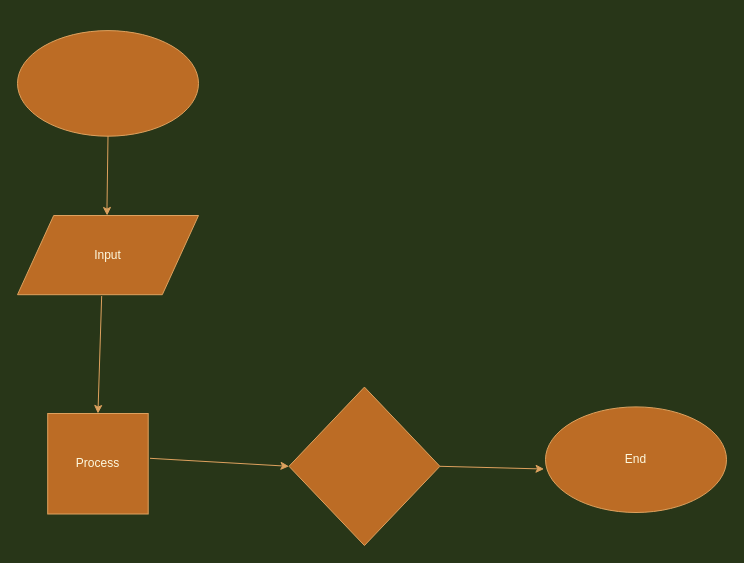
Some shapes in this 744 by 563 pixel diagram are drawn without their labels. Each missing label, with the box of its shape:
Decision: (288, 386, 440, 546)
Start: (16, 30, 198, 136)
